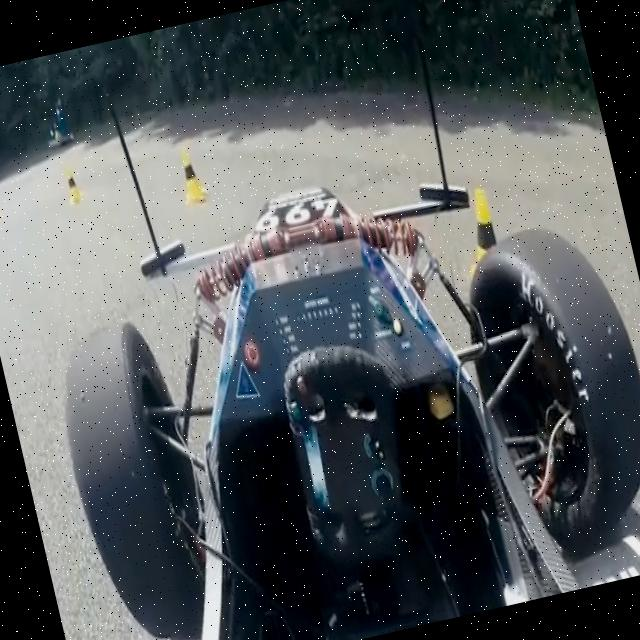yellow_cone: (452, 183, 516, 298), (173, 146, 210, 208), (60, 164, 85, 205)
